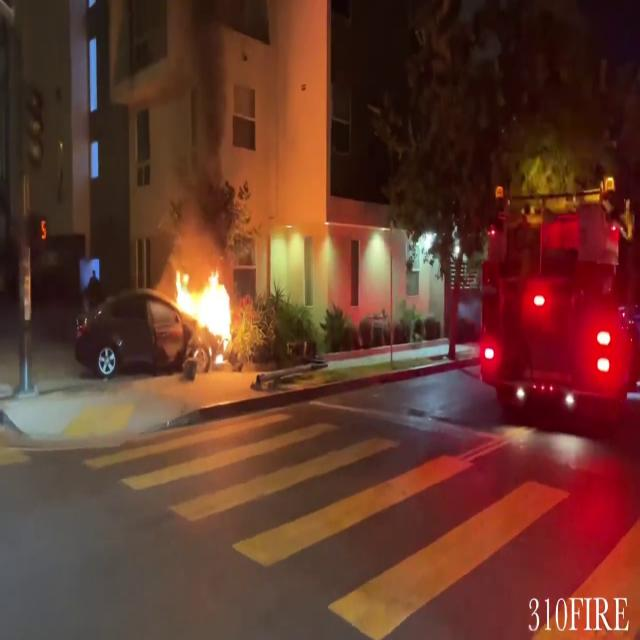Fire: (168, 260, 240, 358)
Smoke: (175, 0, 241, 244)
